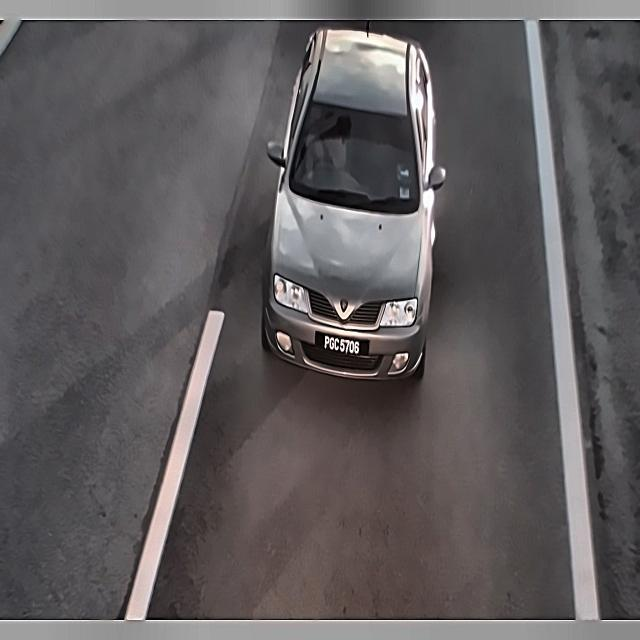car: (313, 324, 368, 366)
